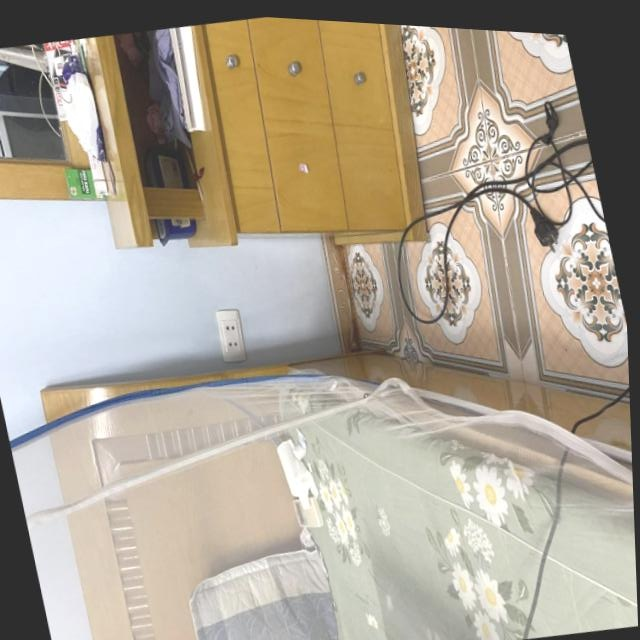outlet: (212, 308, 249, 366)
